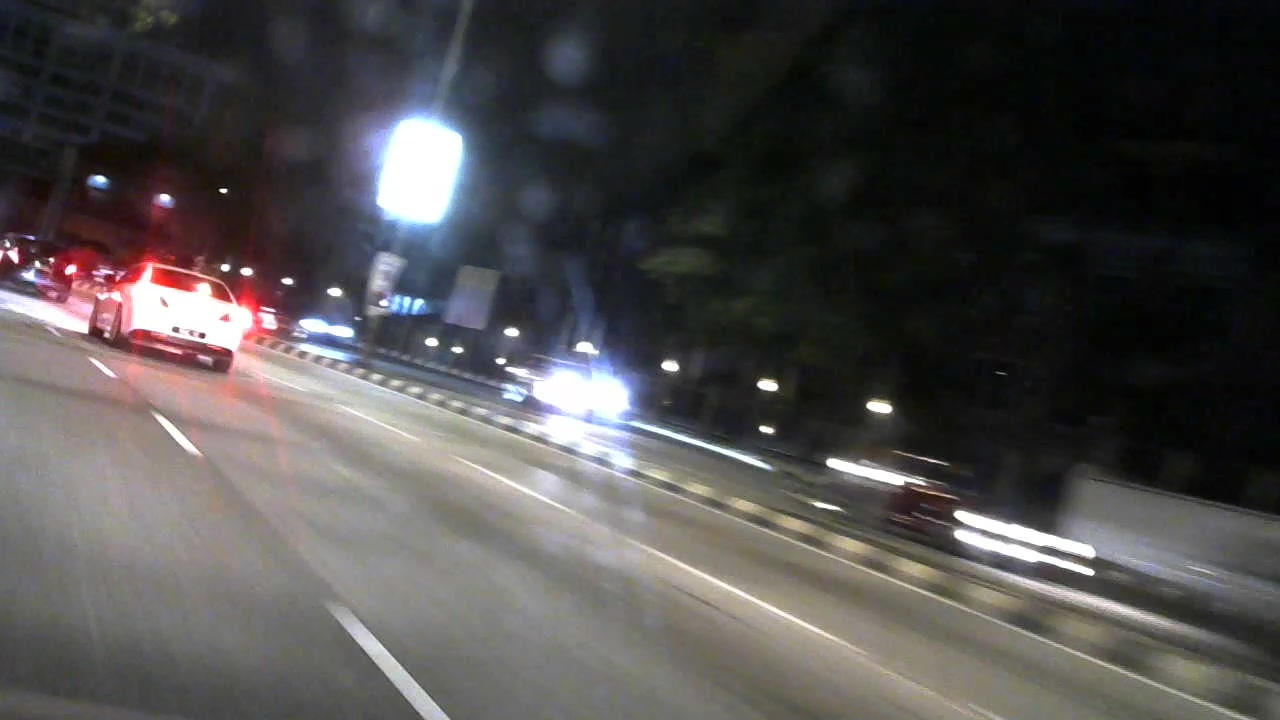Car: (82, 250, 249, 375), (506, 346, 643, 426), (1, 224, 79, 303), (283, 305, 355, 352)
